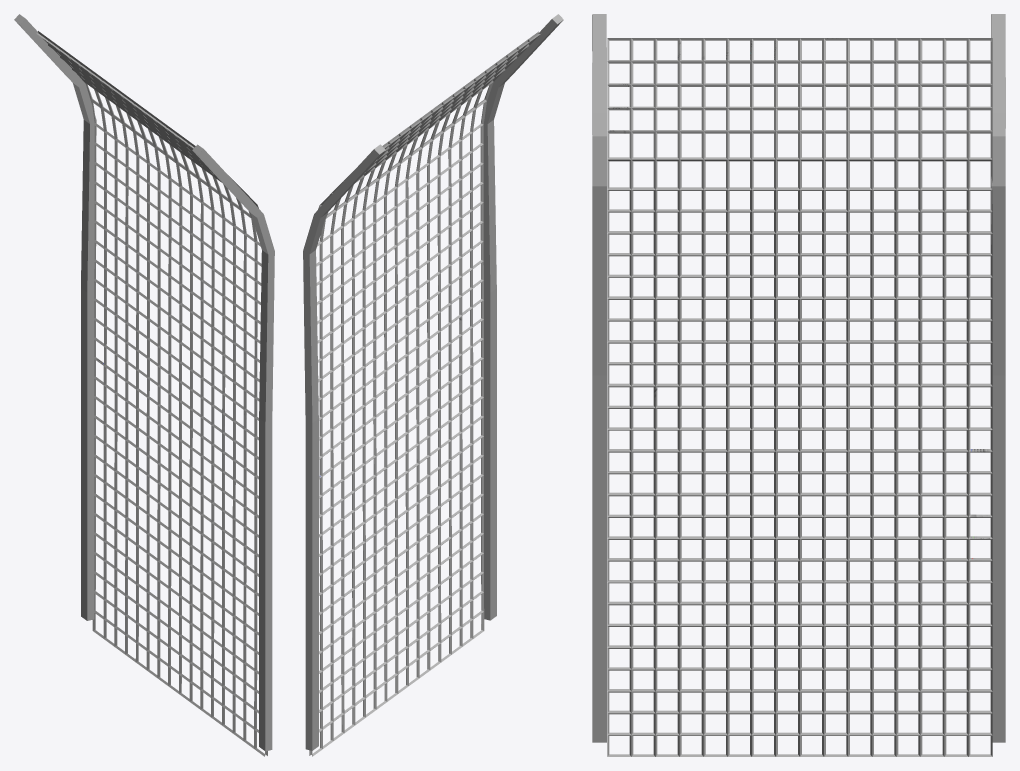
The model's file is Fence1.fbx.
3 views of the same model, side by side, from view 1: azimuth 30°, elevation 25°; view 2: azimuth 150°, elevation 25°; view 3: azimuth 270°, elevation 25° (orthographic). The views are drawn at different scales.
Parts seen in each view (by area): view 1: Grid; view 2: Grid; view 3: Grid.
Boxes of the visible parts, box(x1,y1,x2,y2) form: Grid: box(14, 14, 274, 756); Grid: box(303, 14, 563, 756); Grid: box(592, 14, 1005, 756).
Size of the model in its own units: 51.34 by 404 by 215.
Materials: 2 (2 with a texture image).
